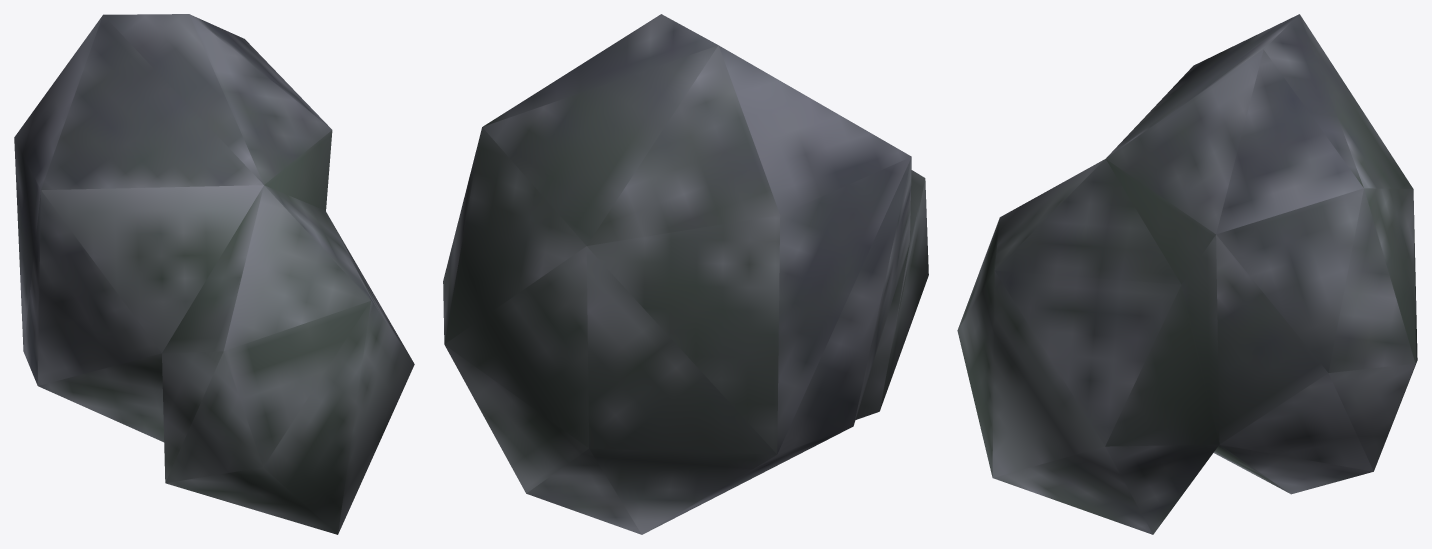
File: Rock_05.fbx
3 views of the same model, side by side, from view 1: azimuth 30°, elevation 25°; view 2: azimuth 150°, elevation 25°; view 3: azimuth 270°, elevation 25° (orthographic). The views are drawn at different scales.
Parts seen in each view (by area): view 1: Rock_05; view 2: Rock_05; view 3: Rock_05.
Boxes of the visible parts, x1,y1,x2,y2 form: Rock_05: (14, 14, 414, 534); Rock_05: (443, 14, 928, 534); Rock_05: (957, 14, 1417, 534).
Size of the model in its own units: 195 by 255 by 229.
1 material, 1 textured.
